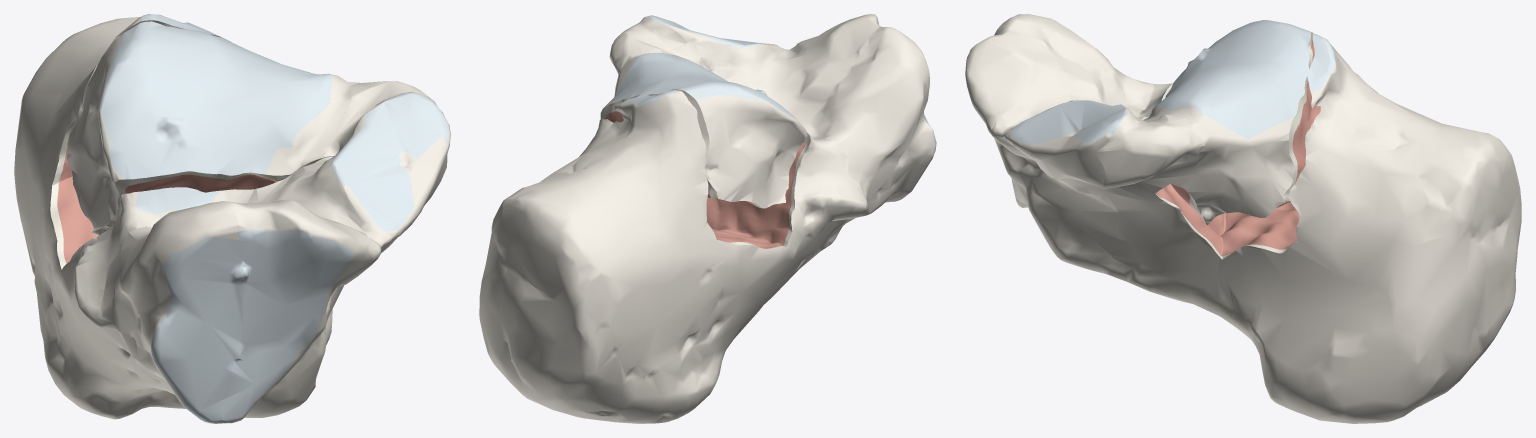
Rendered from G-2C-ACD_young.glb.
The picture shows the model from 3 angles, left to right: view 1: azimuth 30°, elevation 25°; view 2: azimuth 150°, elevation 25°; view 3: azimuth 270°, elevation 25°; orthographic projection. The views are drawn at different scales.
Parts seen in each view (by area): view 1: calcaneus: depressed lateral joint fragment, calcaneus: tuberosity, calcaneus: central anterior process (zones B) fragment, calcaneus: anterolateral (zone A) fragment, calcaneus: sustentacular fragment, calcaneus: posterior sustentaculum (middle facet line, zone ; view 2: calcaneus: tuberosity, calcaneus: depressed lateral joint fragment, calcaneus: anterolateral (zone A) fragment, calcaneus: central anterior process (zones B) fragment, calcaneus: posterior sustentaculum (middle facet line, zone , calcaneus: sustentacular fragment; view 3: calcaneus: tuberosity, calcaneus: depressed lateral joint fragment, calcaneus: central anterior process (zones B) fragment, calcaneus: sustentacular fragment, calcaneus: posterior sustentaculum (middle facet line, zone , calcaneus: anterolateral (zone A) fragment.
Boxes of the visible parts, <box> form: calcaneus: depressed lateral joint fragment: <box>67,21,359,234</box>; calcaneus: tuberosity: <box>14,14,342,419</box>; calcaneus: central anterior process (zones B) fragment: <box>219,160,378,423</box>; calcaneus: anterolateral (zone A) fragment: <box>101,201,247,423</box>; calcaneus: sustentacular fragment: <box>315,99,450,258</box>; calcaneus: posterior sustentaculum (middle facet line, zone : <box>349,81,437,118</box>; calcaneus: tuberosity: <box>479,58,867,423</box>; calcaneus: depressed lateral joint fragment: <box>600,38,807,208</box>; calcaneus: anterolateral (zone A) fragment: <box>818,27,936,247</box>; calcaneus: central anterior process (zones B) fragment: <box>721,14,886,234</box>; calcaneus: posterior sustentaculum (middle facet line, zone : <box>609,16,687,73</box>; calcaneus: sustentacular fragment: <box>649,15,790,74</box>; calcaneus: tuberosity: <box>1109,34,1521,423</box>; calcaneus: depressed lateral joint fragment: <box>1143,20,1320,224</box>; calcaneus: central anterior process (zones B) fragment: <box>965,21,1150,276</box>; calcaneus: sustentacular fragment: <box>990,100,1128,203</box>; calcaneus: posterior sustentaculum (middle facet line, zone : <box>1103,108,1204,188</box>; calcaneus: anterolateral (zone A) fragment: <box>999,14,1154,97</box>.
Size of the model in its own units: 0.0475 by 0.0513 by 0.0757.
